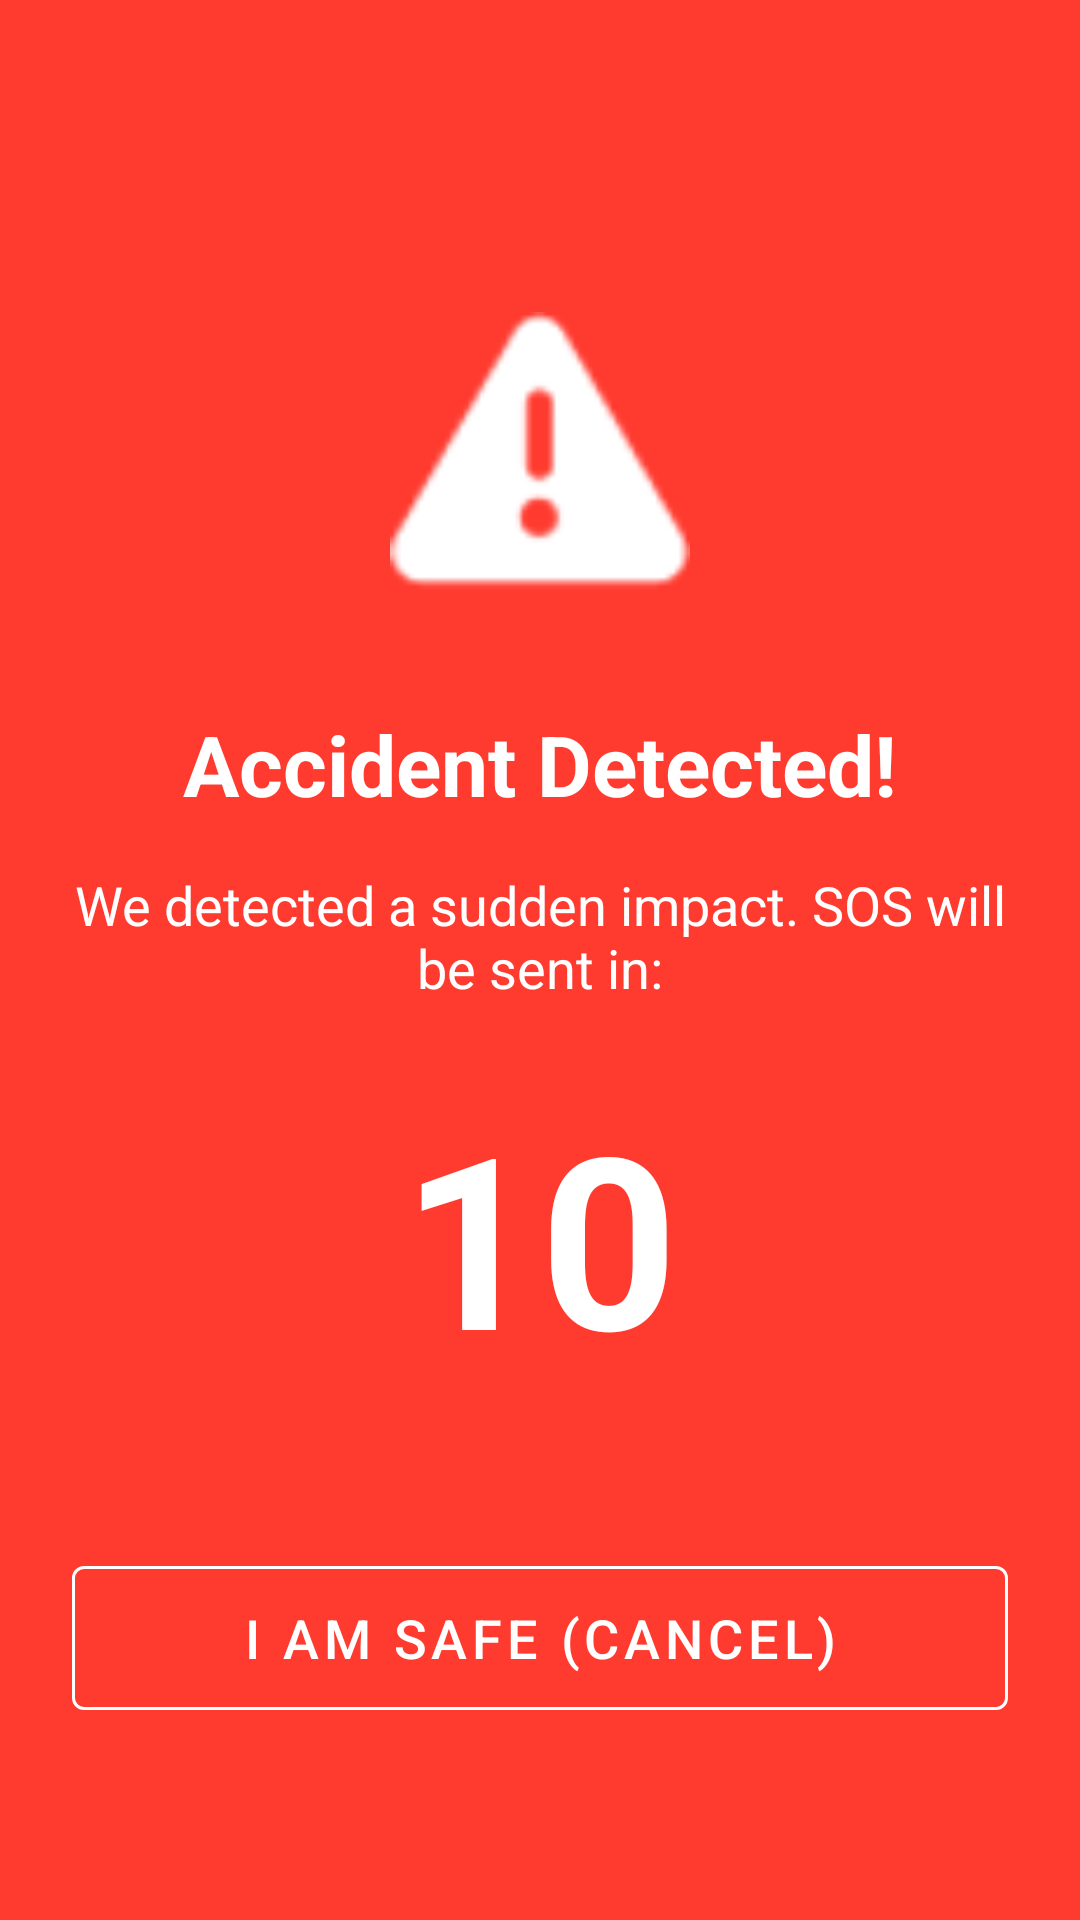

Icons on this 1080x1920 Android screen, each with the point to tap as (x,y):
alert: (540,449)
